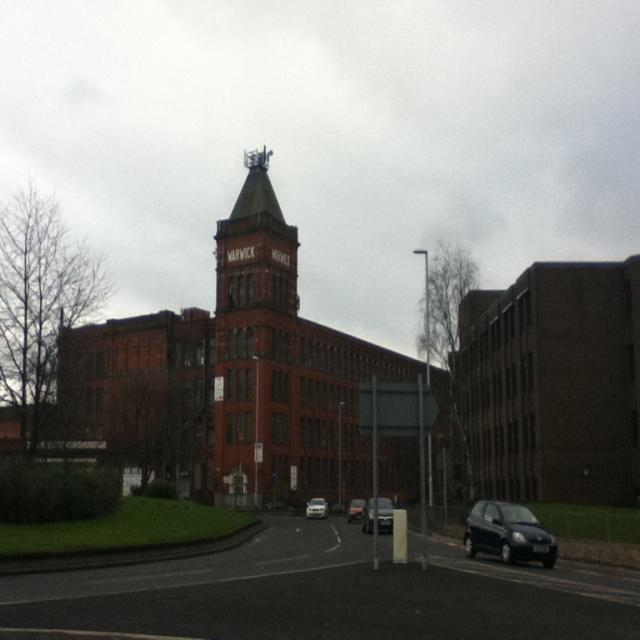car: (460, 502, 557, 570), (308, 497, 325, 516)
